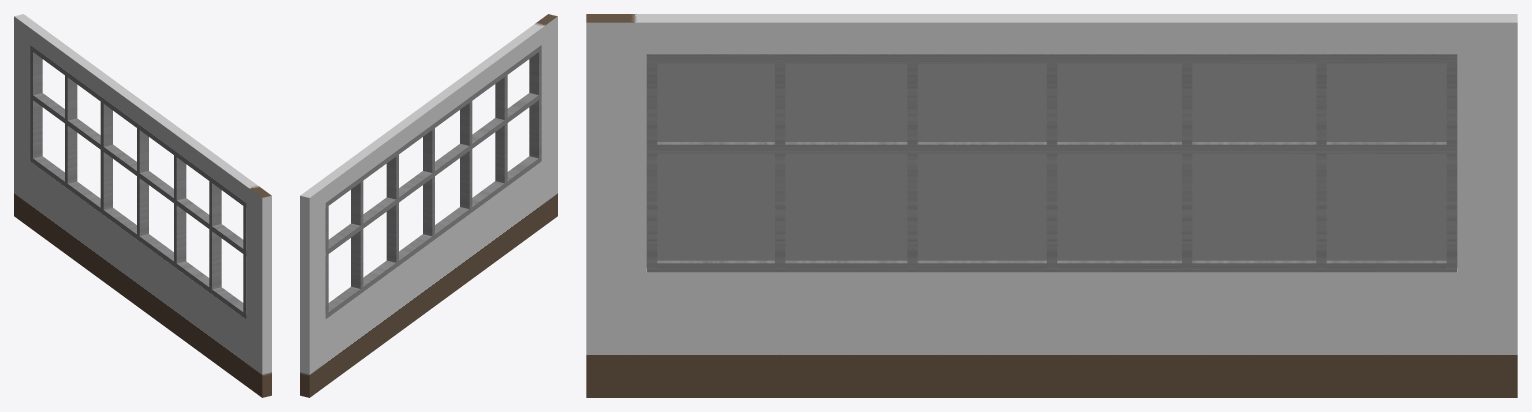
Rendered from classroom_leftwall.glb.
The picture shows the model from 3 angles, left to right: view 1: azimuth 30°, elevation 25°; view 2: azimuth 150°, elevation 25°; view 3: azimuth 270°, elevation 25°; orthographic projection. The views are drawn at different scales.
Parts seen in each view (by area): view 1: MadoKabe; view 2: MadoKabe; view 3: MadoKabe.
Boxes of the visible parts, x1,y1,x2,y2 form: MadoKabe: (14, 14, 271, 397); MadoKabe: (300, 14, 557, 397); MadoKabe: (586, 14, 1517, 397).
Size of the model in its own units: 20 by 400 by 900.
1 material, 1 textured.
